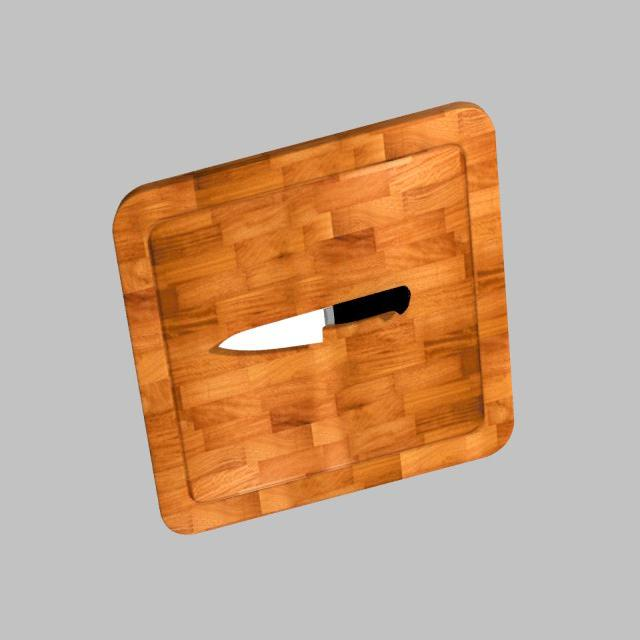knife: (332, 285, 411, 324)
